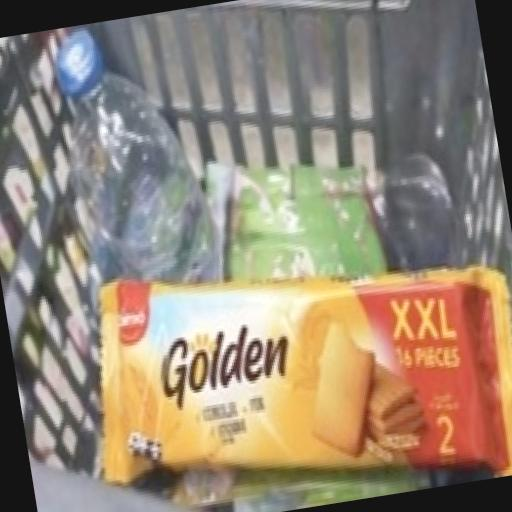golden: (56, 139, 512, 512)
